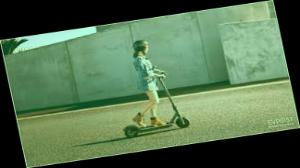helmet: (103, 33, 193, 140)
